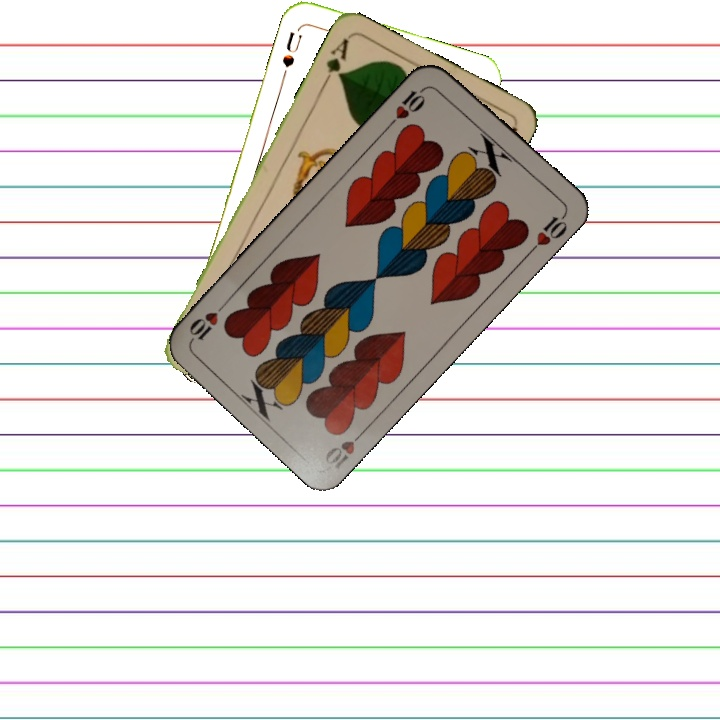GA: (318, 34, 352, 90)
H10: (320, 423, 371, 472), (385, 82, 431, 129)
SU: (278, 28, 305, 71)
